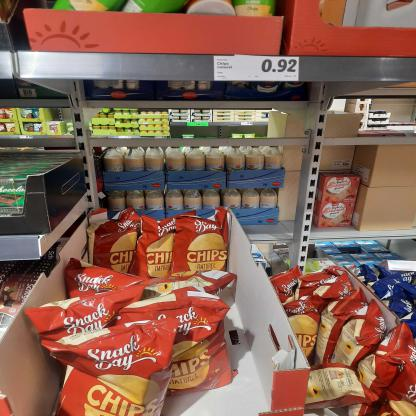prtg: (214, 57, 300, 82)
